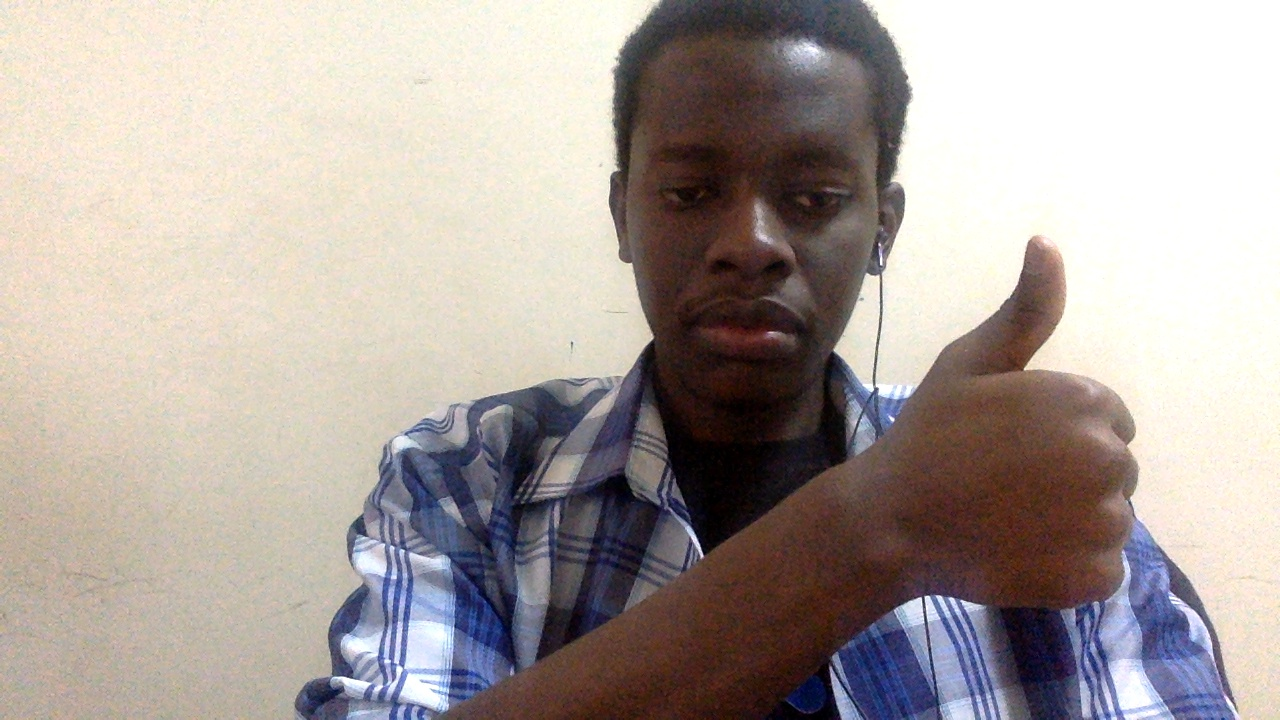ThumbsUp: (834, 234, 1142, 614)
